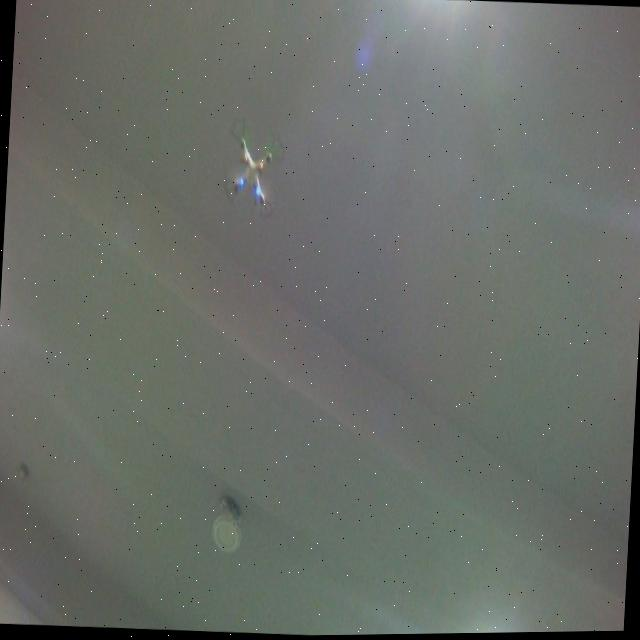drone: (220, 115, 289, 227)
